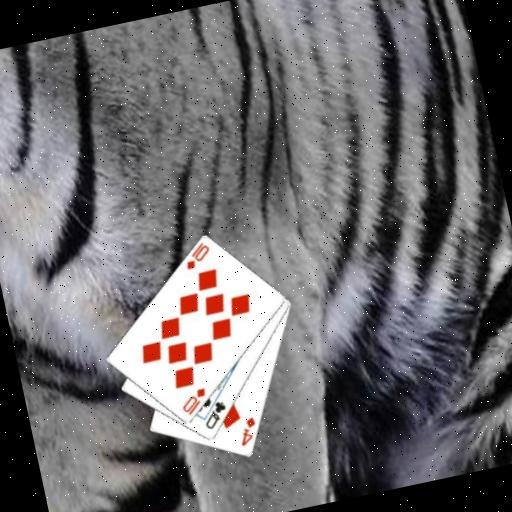10D: (179, 237, 214, 272), (176, 384, 211, 418)
4D: (232, 413, 261, 449)
QC: (197, 397, 231, 432)
